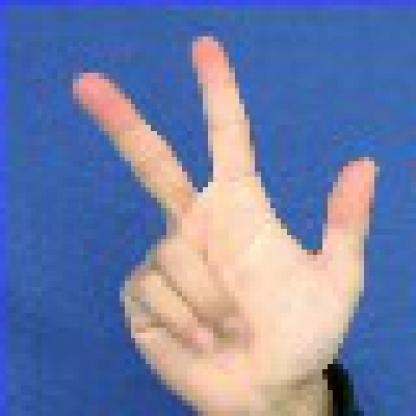eight: (56, 13, 388, 416)
